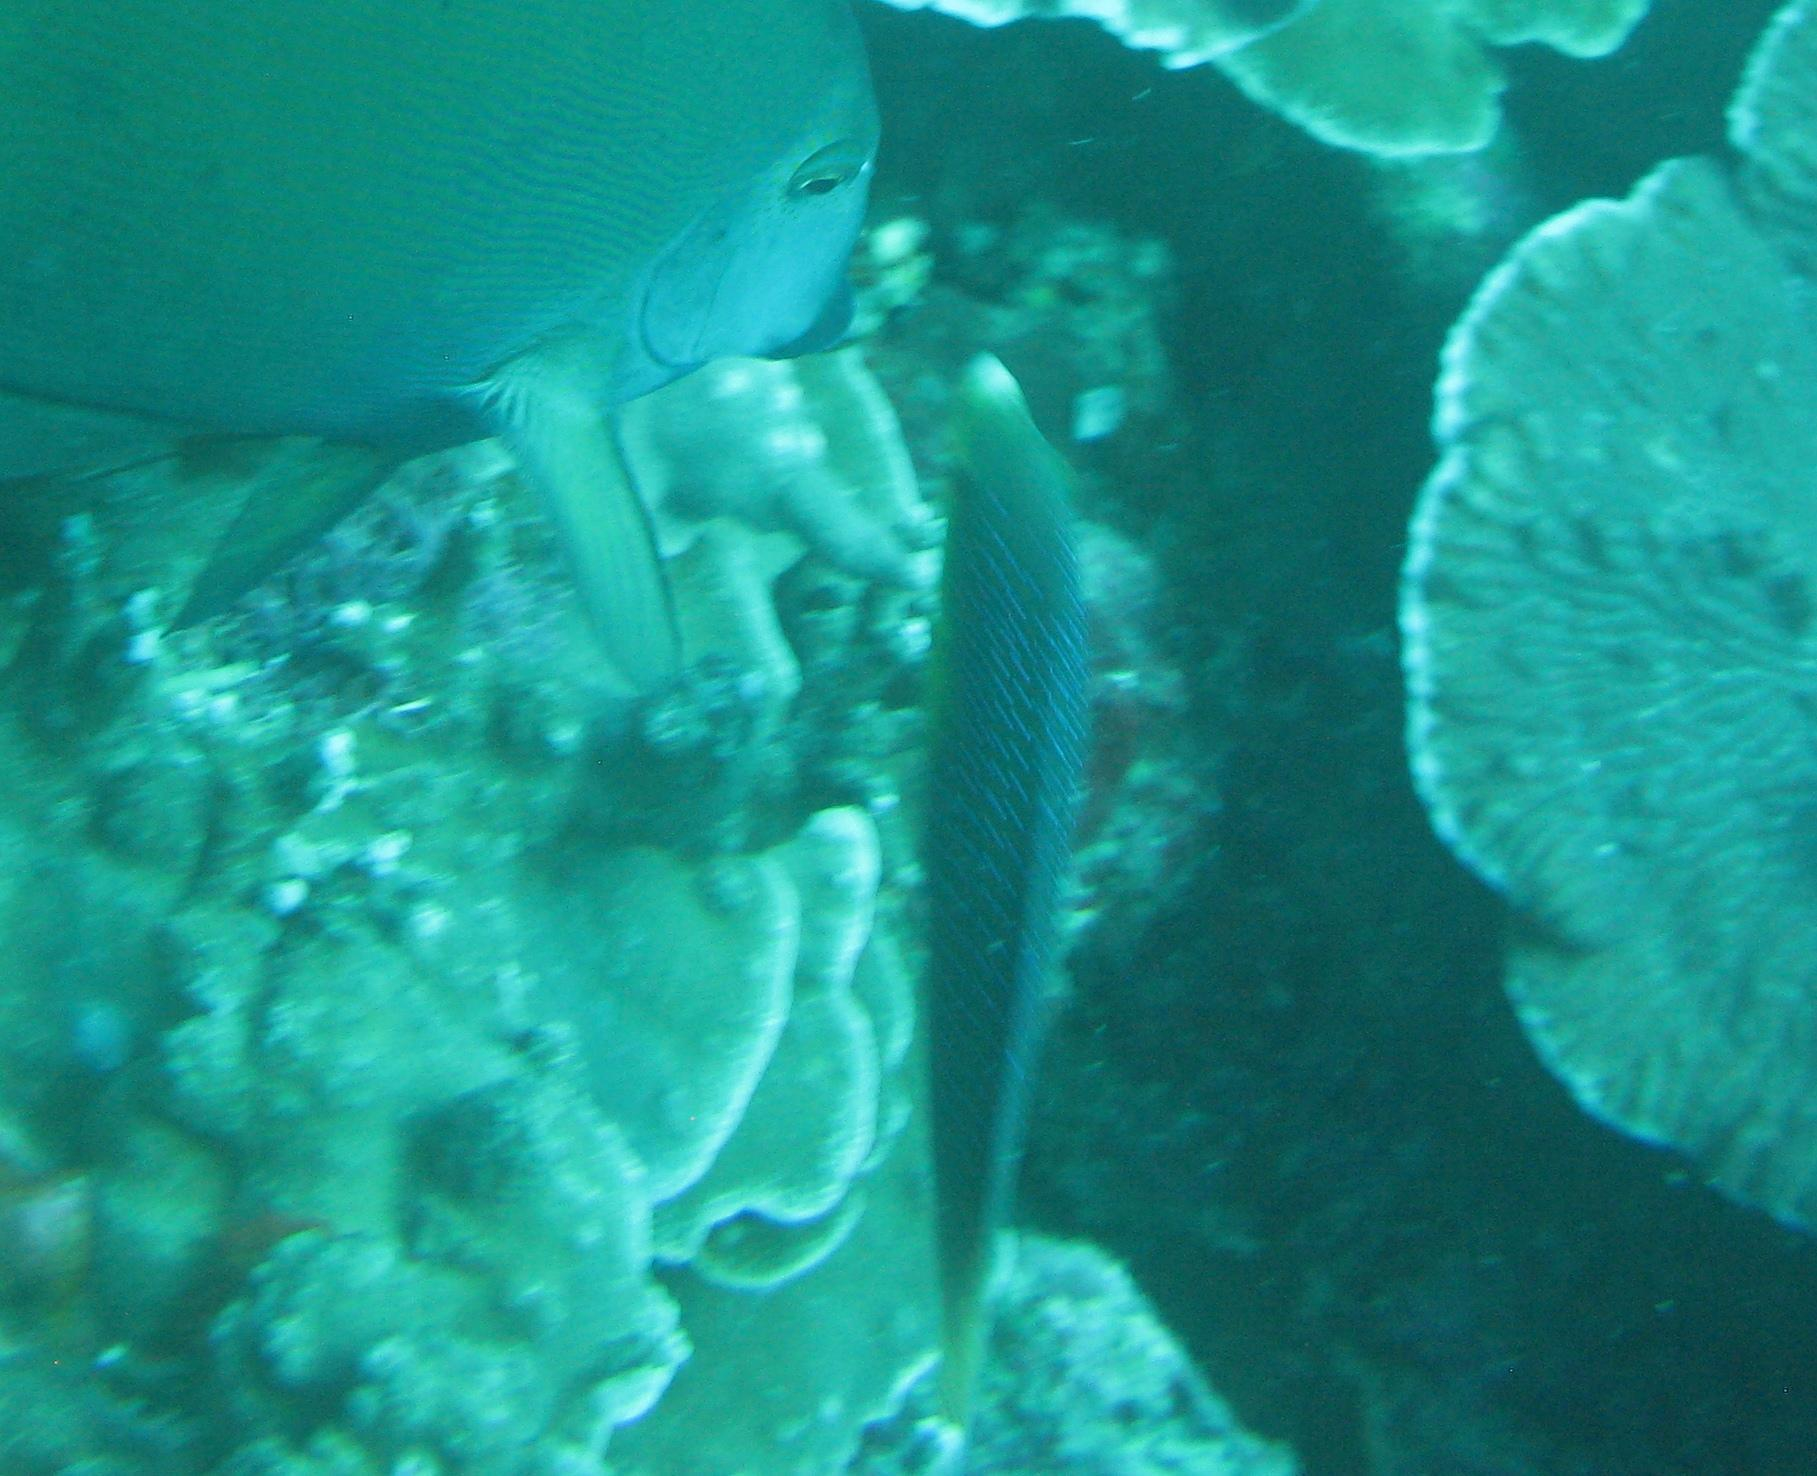Fish: (894, 279, 1173, 1476)
